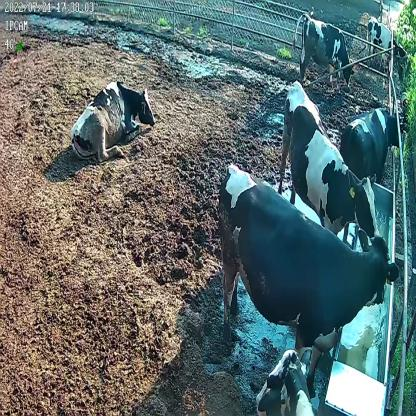cow: (217, 155, 399, 384), (279, 82, 382, 242), (71, 78, 155, 159), (290, 11, 356, 92), (338, 109, 404, 179), (367, 17, 409, 67)
